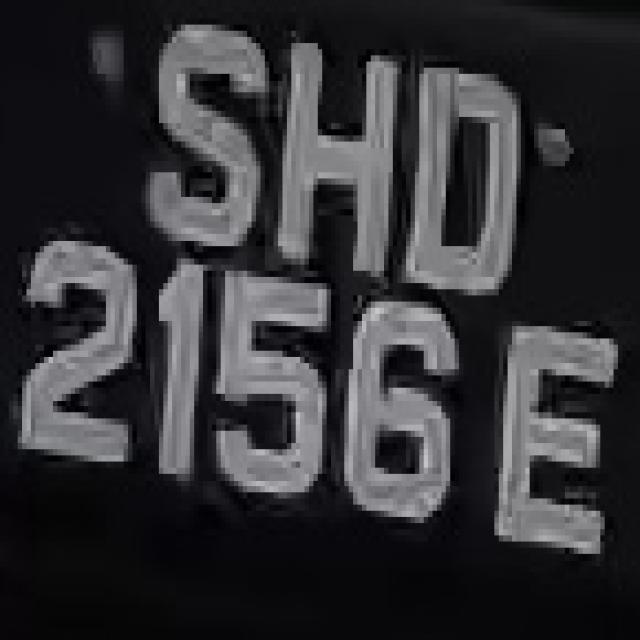1: (150, 233, 216, 504)
2: (18, 209, 141, 486)
5: (198, 259, 336, 523)
6: (344, 270, 464, 542)
D: (388, 55, 530, 320)
E: (494, 296, 618, 578)
H: (269, 25, 415, 302)
S: (141, 12, 269, 258)
